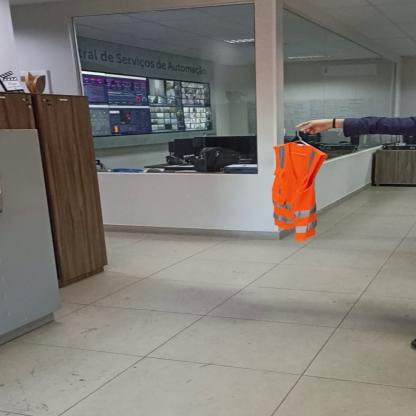colete: (269, 140, 327, 240)
